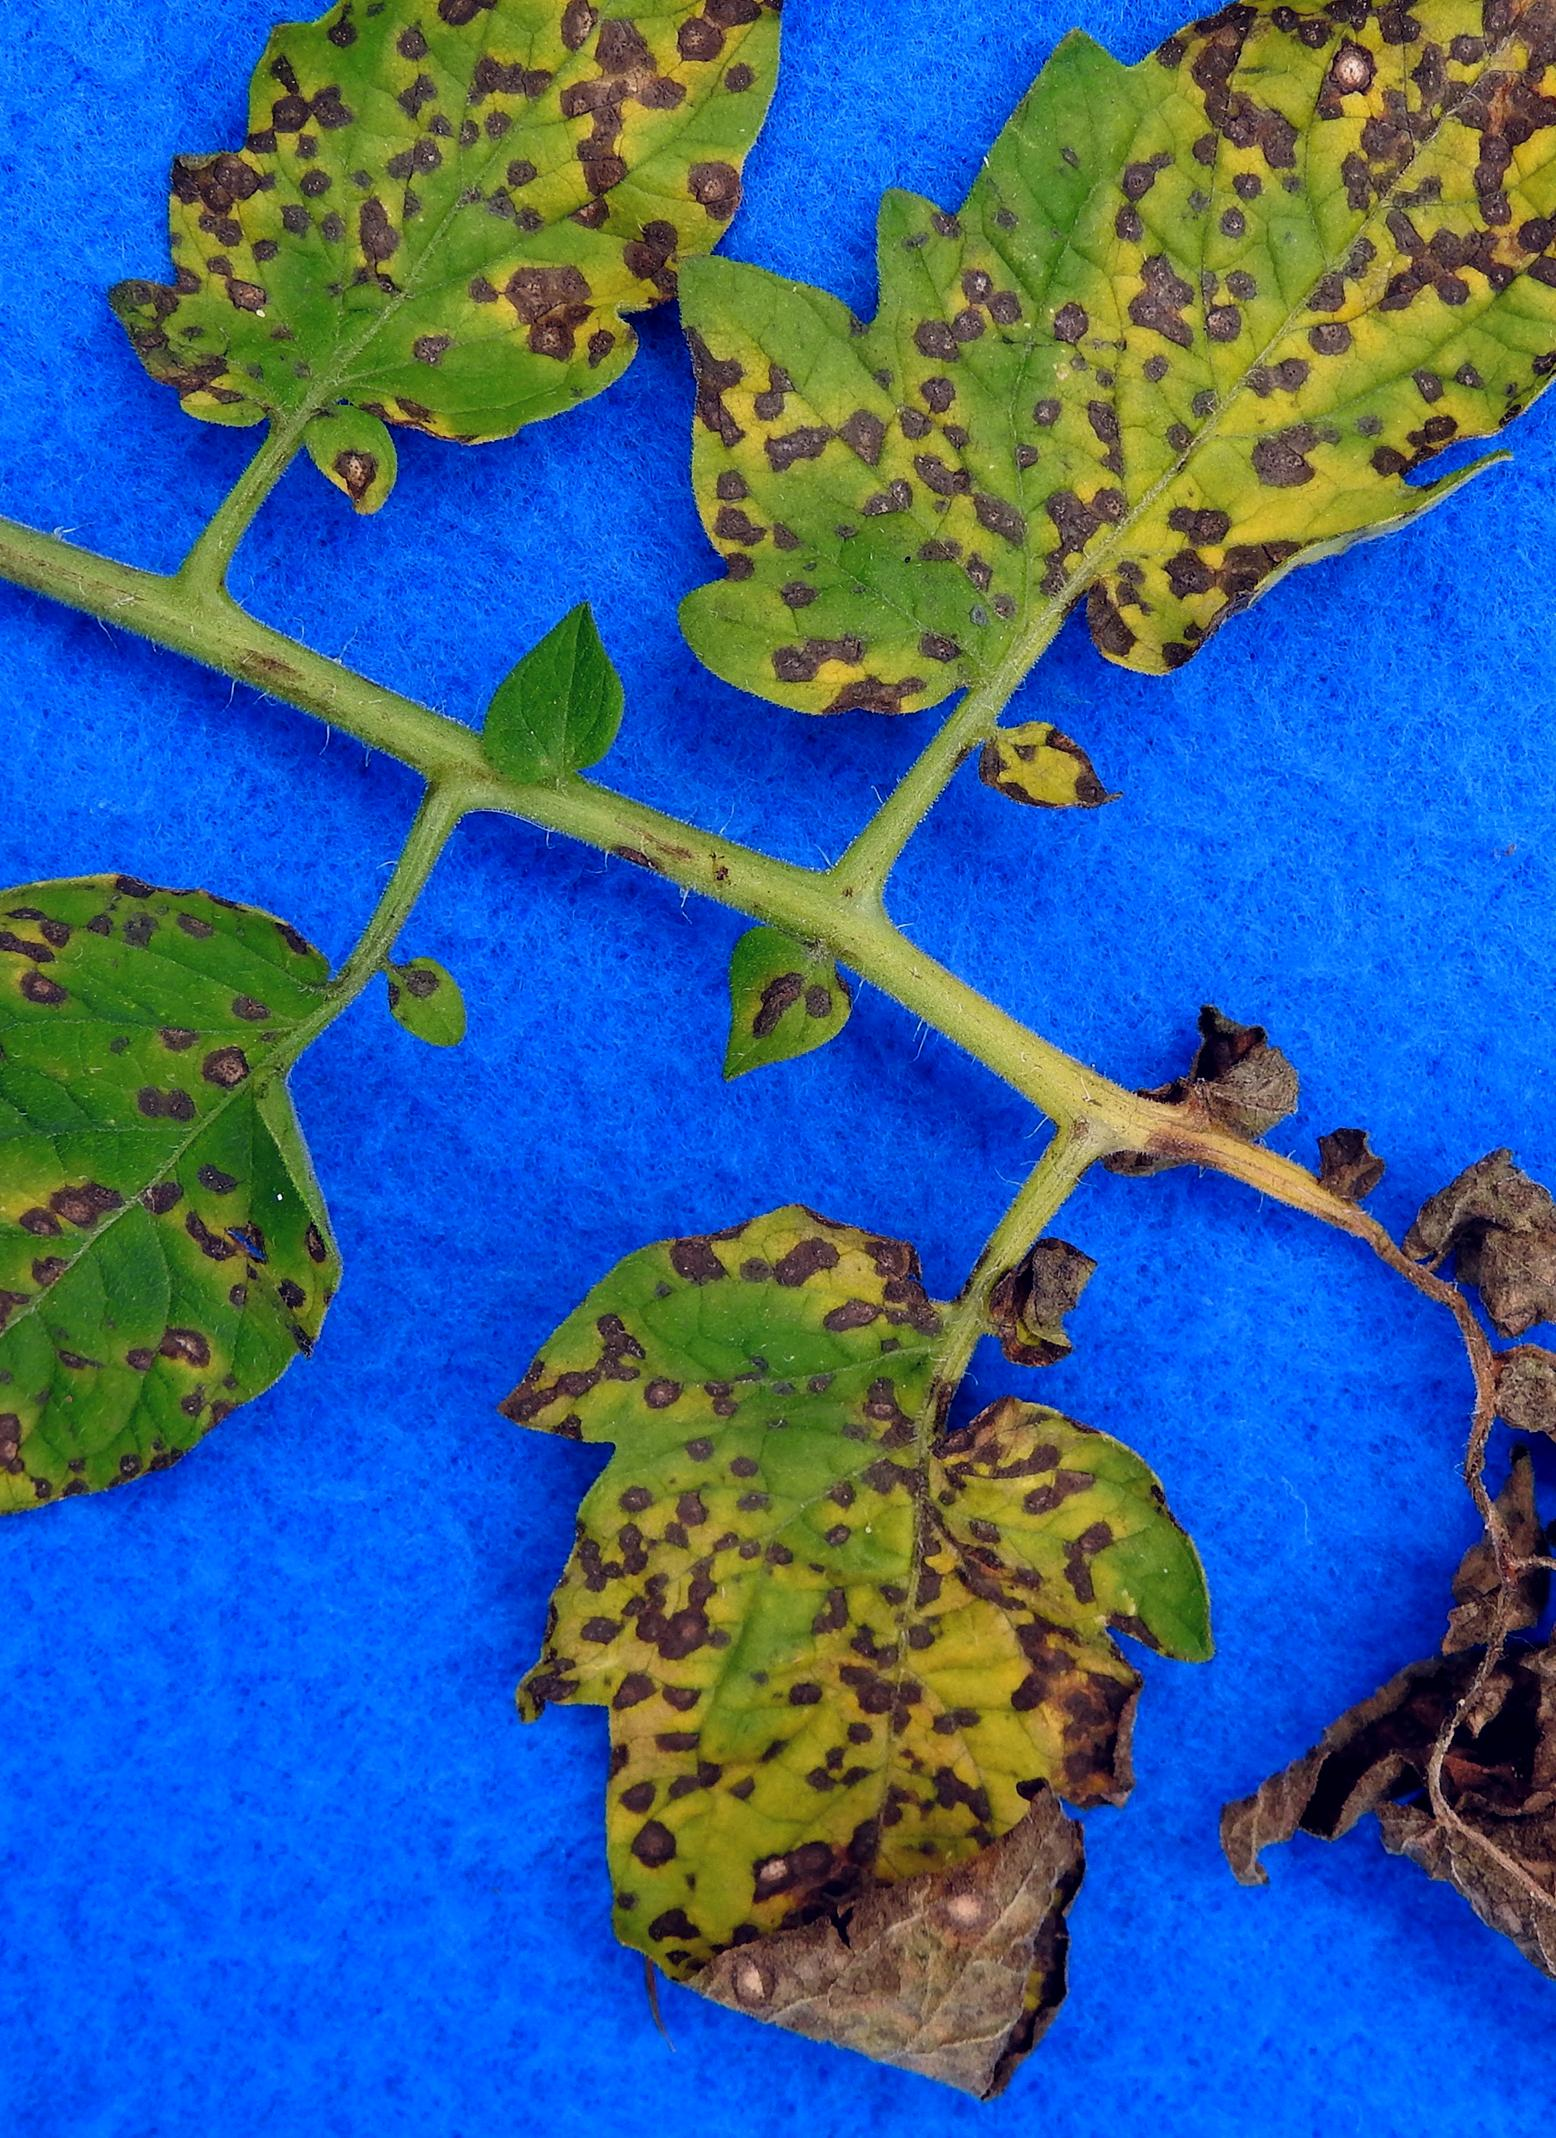Tomato Septoria leaf spot: (504, 1212, 1274, 2138), (676, 0, 1556, 775), (117, 0, 815, 514), (0, 800, 386, 1669)
